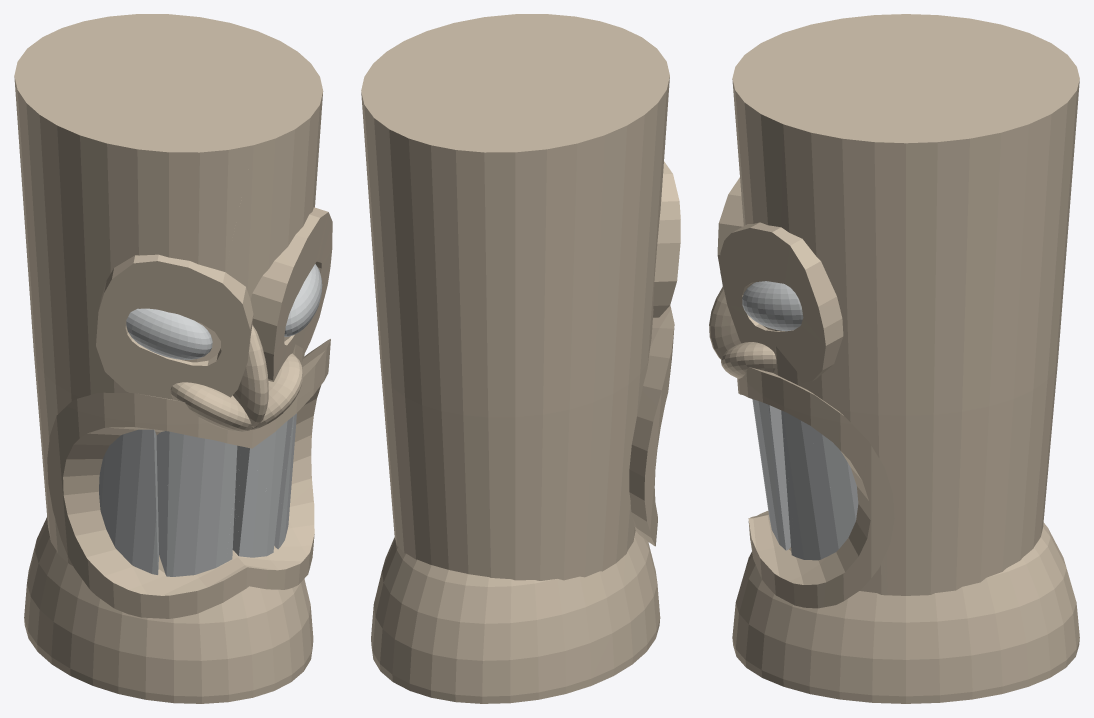
File: tiki_model.gltf
3 renders of one model, left to right at view 1: azimuth 30°, elevation 25°; view 2: azimuth 150°, elevation 25°; view 3: azimuth 270°, elevation 25°, orthographic. The views are drawn at different scales.
Parts seen in each view (by area): view 1: Piece; view 2: Piece; view 3: Piece.
Boxes of the visible parts, x1,y1,x2,y2 form: Piece: (14,14,332,703); Piece: (361,14,680,703); Piece: (709,14,1079,703).
Bounding box in the file's own units: 22.25 × 45 × 26.68.
